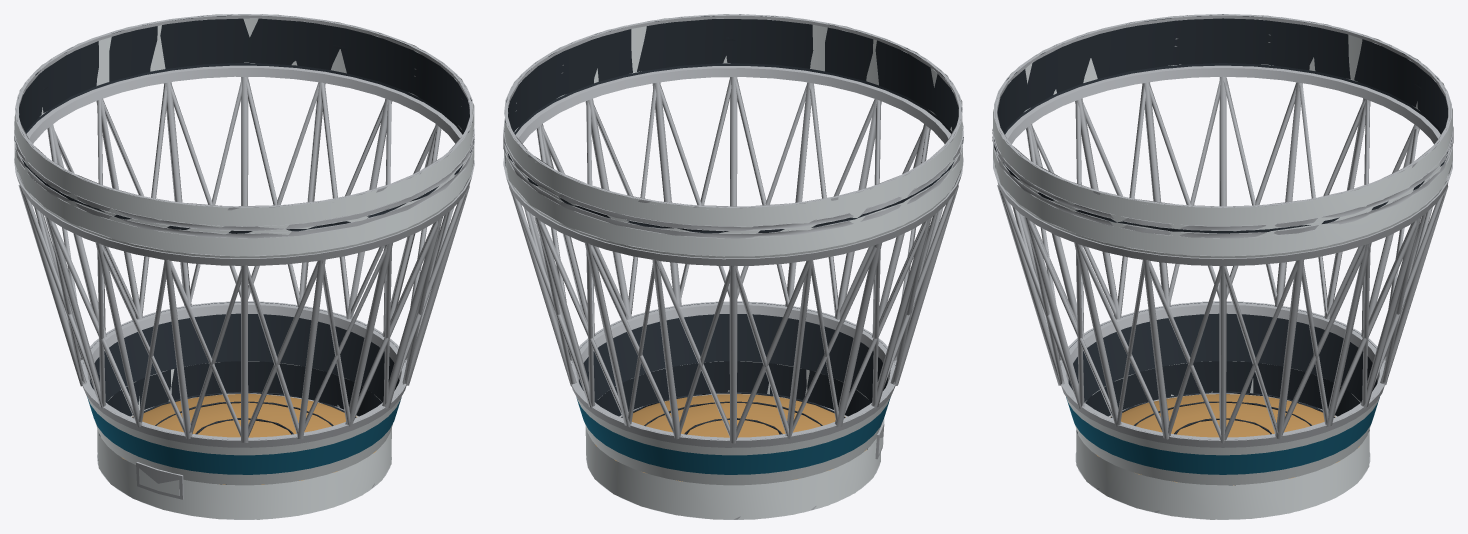
The model's file is interstage_hot_staging_d54_to_d84.glb.
3 renders of one model, left to right at view 1: azimuth 30°, elevation 25°; view 2: azimuth 150°, elevation 25°; view 3: azimuth 270°, elevation 25°, orthographic.
Parts seen in each view (by area): view 1: interstage_hot_staging_d54_to_d84_mesh; view 2: interstage_hot_staging_d54_to_d84_mesh; view 3: interstage_hot_staging_d54_to_d84_mesh.
Part boxes in pixels (left/top/right/bottom): interstage_hot_staging_d54_to_d84_mesh: left=14, top=14, right=474, bottom=519; interstage_hot_staging_d54_to_d84_mesh: left=503, top=14, right=963, bottom=519; interstage_hot_staging_d54_to_d84_mesh: left=992, top=14, right=1453, bottom=519.
Size of the model in its own units: 8.43 by 7 by 8.45.
